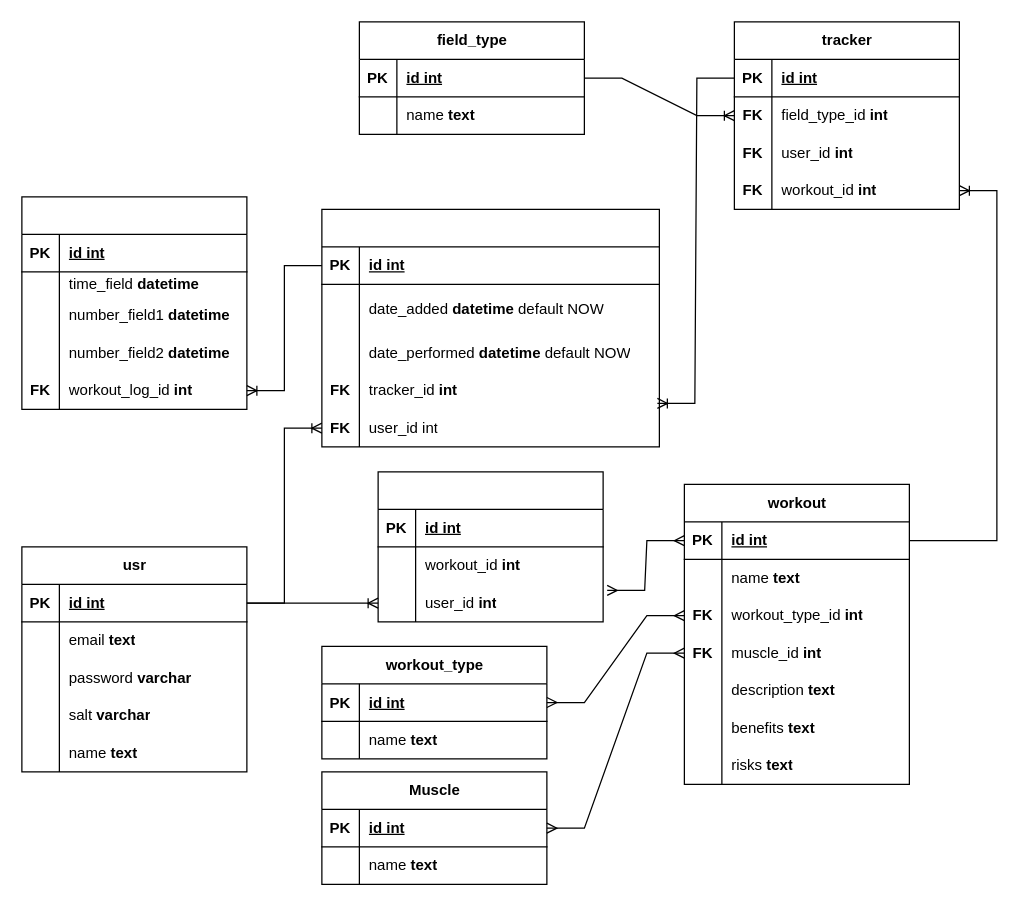
Some shapes in this 1029 by 906 pixel diagram are drawn without their labels. The box of each missing label's shape, as (x1, y1, x2, y2) in pixels:
workout_log: (321, 208, 659, 447)
workout_set: (21, 196, 247, 409)
WorkoutList: (377, 471, 603, 622)
